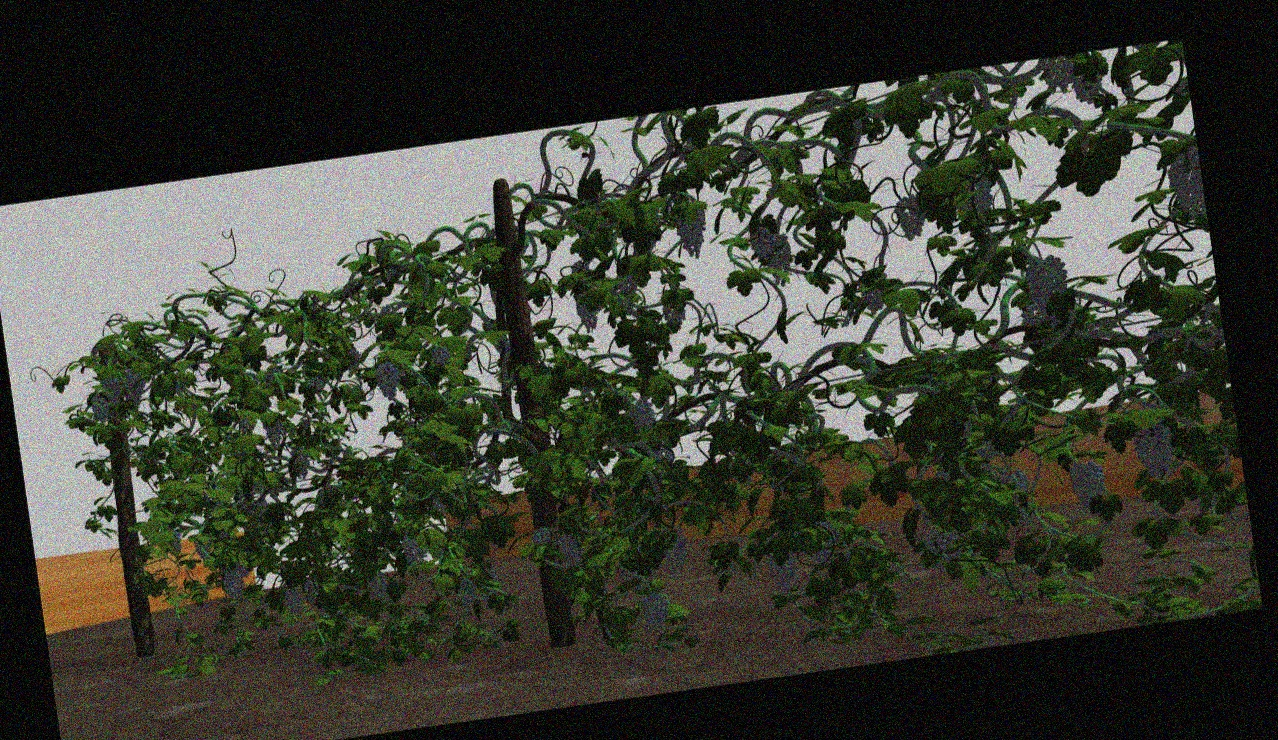grape: (1026, 255, 1070, 316), (1168, 148, 1201, 218), (1133, 421, 1174, 476), (1068, 460, 1105, 510), (956, 175, 995, 219), (767, 549, 798, 597), (764, 235, 793, 285), (895, 193, 925, 241), (677, 210, 706, 259), (639, 586, 667, 634), (659, 527, 688, 571), (1042, 56, 1074, 93), (1070, 73, 1104, 105), (924, 525, 958, 554), (375, 359, 399, 400), (123, 368, 146, 408), (574, 292, 597, 332), (629, 396, 654, 430), (749, 227, 775, 259), (221, 568, 245, 602), (558, 533, 581, 568), (403, 531, 423, 566), (100, 373, 121, 406), (281, 585, 303, 616), (262, 416, 283, 448), (290, 447, 309, 479), (89, 396, 110, 423), (457, 579, 476, 607), (368, 575, 388, 597), (430, 345, 451, 365), (531, 526, 551, 545), (306, 375, 324, 392)
